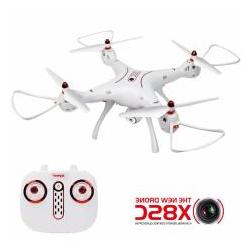drone: (10, 30, 241, 154)
